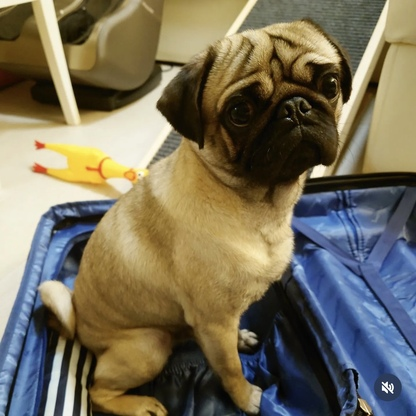Pug: (31, 15, 356, 416)
